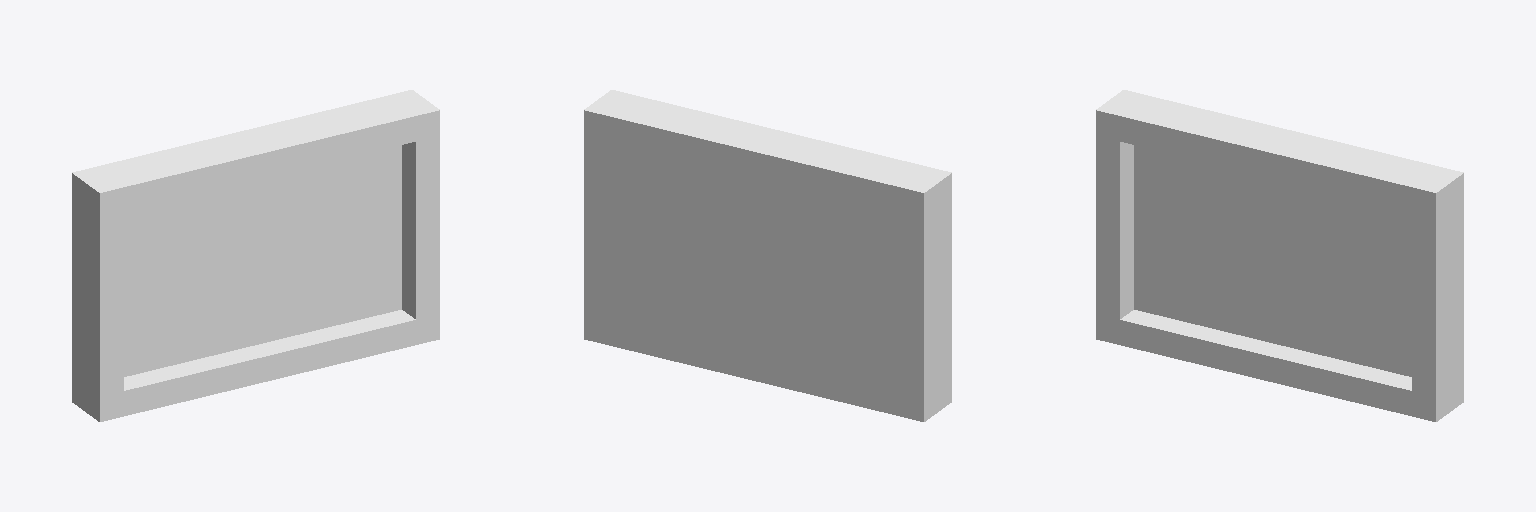
Rendered from Tableau_carre.obj.
3 renders of one model, left to right at view 1: azimuth 30°, elevation 25°; view 2: azimuth 150°, elevation 25°; view 3: azimuth 330°, elevation 25°, orthographic.
Visible parts, largest first — view 1: object 1; view 2: object 1; view 3: object 1.
Part boxes in pixels (bbox=[...]): object 1: bbox=[72, 90, 439, 421]; object 1: bbox=[584, 90, 951, 421]; object 1: bbox=[1096, 90, 1463, 421].
Size of the model in its own units: 1.4 by 0.9 by 0.2.